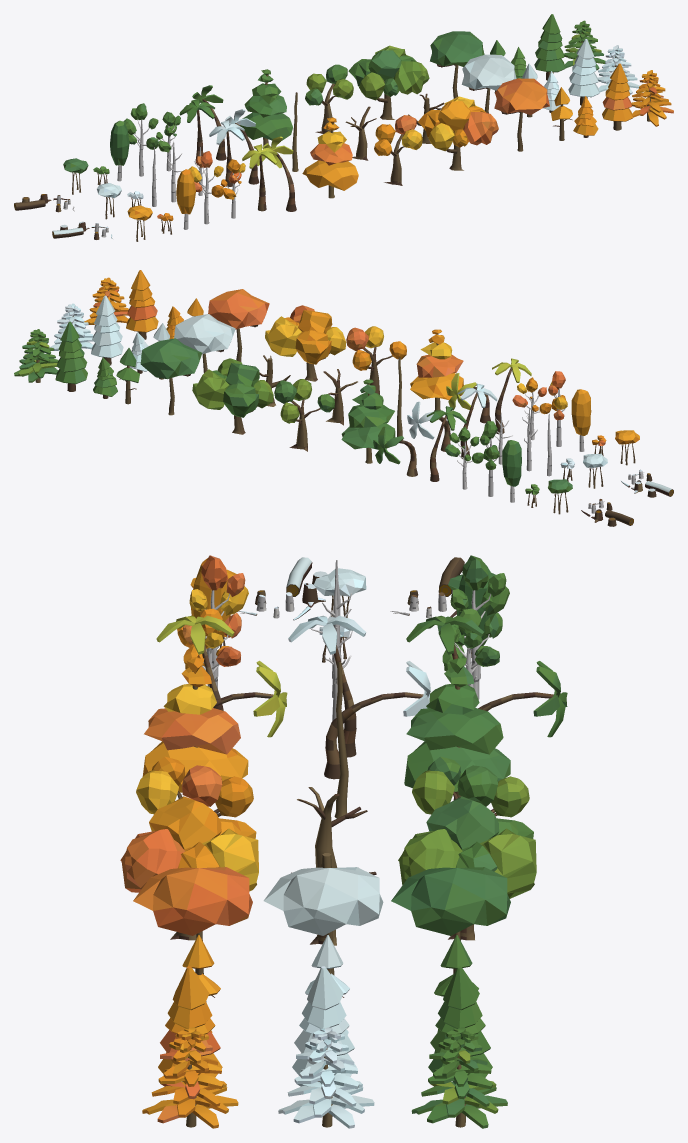
Rendered from Trees.fbx.
The picture shows the model from 3 angles, top to bottom: view 1: azimuth 30°, elevation 25°; view 2: azimuth 150°, elevation 25°; view 3: azimuth 270°, elevation 25°; orthographic projection. The views are drawn at different scales.
Visible parts, largest first — view 1: Tree6_autumn, Tree6, Tree8_autumn, Tree8, Tree5_autumn, Tree5, Tree5_winter, Tree7_autumn, Tree7, Tree1_autumn, Tree2_autumn, Tree2_winter (+22 smaller); view 2: Tree6, Tree6_autumn, Tree8_autumn, Tree8, Tree5, Tree5_autumn, Tree5_winter, Tree7, Tree7_autumn, Tree2, Tree1, Tree2_autumn (+22 smaller); view 3: Tree6, Tree6_autumn, Tree8, Tree8_autumn, Tree5_winter, Tree5_autumn, Tree5, Tree1_winter, Tree1, Tree1_autumn, Tree7, Tree7_autumn (+19 smaller).
Part boxes in pixels (bbox=[...]): Tree6_autumn: bbox=[418, 96, 498, 170]; Tree6: bbox=[348, 45, 429, 119]; Tree8_autumn: bbox=[302, 117, 358, 198]; Tree8: bbox=[239, 69, 292, 145]; Tree5_autumn: bbox=[494, 78, 549, 151]; Tree5: bbox=[430, 31, 484, 98]; Tree5_winter: bbox=[461, 54, 516, 113]; Tree7_autumn: bbox=[374, 115, 422, 185]; Tree7: bbox=[305, 64, 353, 133]; Tree1_autumn: bbox=[631, 70, 673, 126]; Tree2_autumn: bbox=[602, 63, 632, 130]; Tree2_winter: bbox=[568, 39, 599, 105]; Tree6: bbox=[192, 358, 273, 434]; Tree6_autumn: bbox=[265, 305, 346, 381]; Tree8_autumn: bbox=[410, 329, 463, 411]; Tree8: bbox=[341, 379, 395, 463]; Tree5: bbox=[140, 338, 202, 415]; Tree5_autumn: bbox=[208, 289, 269, 361]; Tree5_winter: bbox=[174, 314, 235, 372]; Tree7: bbox=[274, 379, 334, 451]; Tree7_autumn: bbox=[346, 326, 406, 394]; Tree2: bbox=[55, 321, 87, 391]; Tree1: bbox=[14, 329, 58, 382]; Tree2_autumn: bbox=[126, 270, 158, 339]; Tree6: bbox=[398, 796, 536, 940]; Tree6_autumn: bbox=[120, 796, 258, 940]; Tree8: bbox=[404, 658, 510, 800]; Tree8_autumn: bbox=[142, 658, 248, 792]; Tree5_winter: bbox=[263, 867, 383, 975]; Tree5_autumn: bbox=[133, 867, 252, 1001]; Tree5: bbox=[391, 867, 510, 973]; Tree1_winter: bbox=[278, 1027, 374, 1128]; Tree1: bbox=[411, 1027, 507, 1128]; Tree1_autumn: bbox=[142, 1027, 238, 1128]; Tree7: bbox=[412, 756, 529, 817]; Tree7_autumn: bbox=[136, 756, 253, 817].
Size of the model in its own units: 6811 by 879 by 2244.
